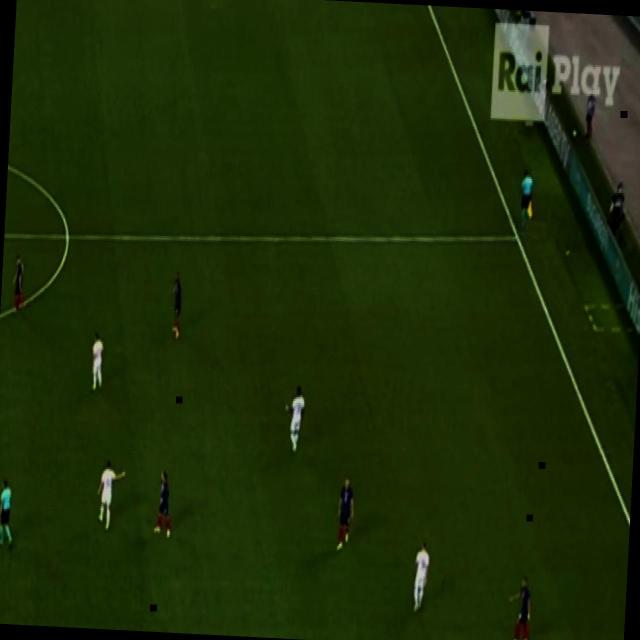ball: (570, 126, 579, 138)
player-white: (93, 458, 127, 534), (504, 573, 533, 640), (281, 382, 307, 456), (151, 467, 176, 541), (335, 474, 357, 554), (410, 538, 432, 616), (0, 477, 18, 551), (166, 270, 184, 340), (515, 168, 534, 232), (88, 329, 106, 393), (9, 253, 26, 319)
